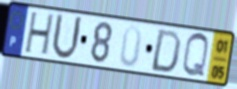0: (118, 24, 144, 70)
8: (89, 20, 114, 65)
D: (148, 28, 183, 75)
H: (22, 10, 56, 58)
Q: (180, 31, 211, 79)
U: (49, 11, 84, 62)
